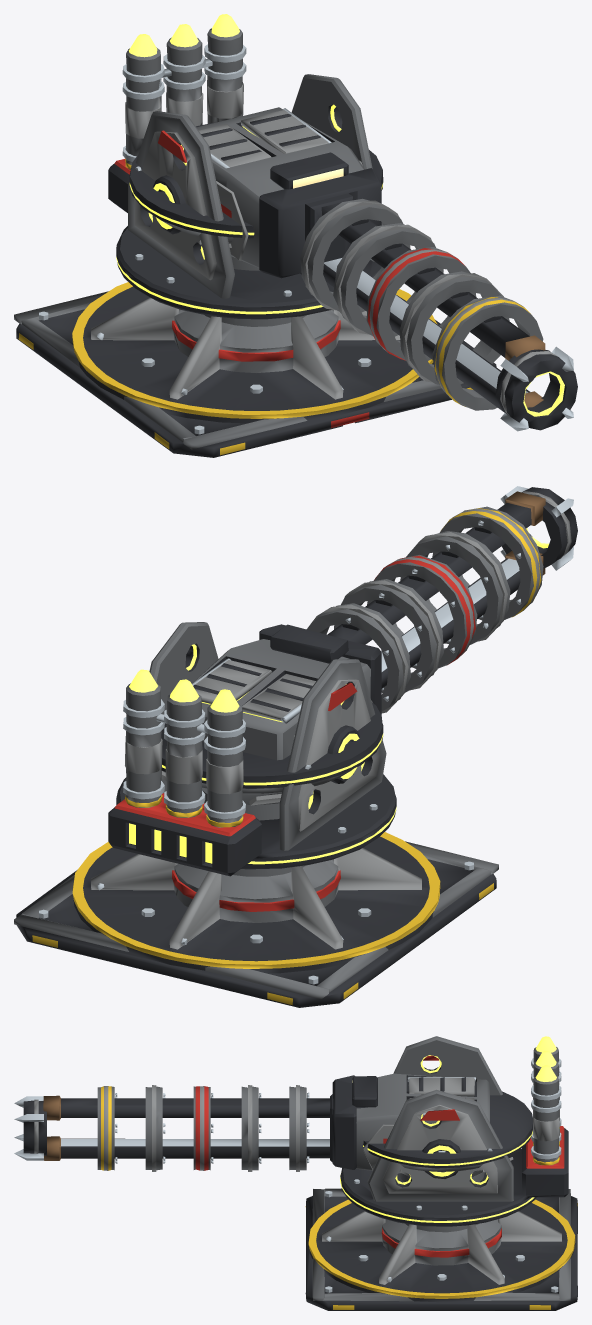
The model's file is R4W_Railgun_LOD1.fbx.
The picture shows the model from 3 angles, top to bottom: view 1: azimuth 30°, elevation 25°; view 2: azimuth 150°, elevation 25°; view 3: azimuth 270°, elevation 25°; orthographic projection. The views are drawn at different scales.
Parts seen in each view (by area): view 1: R4W_Railgun_Base_LOD1, R4W_Railgun_Yaw_LOD1, R4W_Railgun_Rails_LOD1, R4W_Railgun_Pitch_LOD1, R4W_Railgun_Emitter_LOD1, R4W_Railgun_VentFlap_R_LOD1, R4W_Railgun_VentFlap_L_LOD1; view 2: R4W_Railgun_Base_LOD1, R4W_Railgun_Yaw_LOD1, R4W_Railgun_Rails_LOD1, R4W_Railgun_Pitch_LOD1, R4W_Railgun_Emitter_LOD1, R4W_Railgun_VentFlap_L_LOD1, R4W_Railgun_VentFlap_R_LOD1; view 3: R4W_Railgun_Base_LOD1, R4W_Railgun_Yaw_LOD1, R4W_Railgun_Rails_LOD1, R4W_Railgun_Pitch_LOD1, R4W_Railgun_Emitter_LOD1, R4W_Railgun_VentFlap_L_LOD1.
Part boxes in pixels (box(x1,y1,x2,y2)): R4W_Railgun_Base_LOD1: box(14, 122, 496, 457); R4W_Railgun_Yaw_LOD1: box(108, 14, 382, 319); R4W_Railgun_Rails_LOD1: box(300, 193, 545, 412); R4W_Railgun_Pitch_LOD1: box(165, 107, 381, 278); R4W_Railgun_Emitter_LOD1: box(495, 346, 577, 431); R4W_Railgun_VentFlap_R_LOD1: box(241, 108, 331, 153); R4W_Railgun_VentFlap_L_LOD1: box(199, 124, 271, 168); R4W_Railgun_Base_LOD1: box(14, 702, 498, 1007); R4W_Railgun_Yaw_LOD1: box(108, 622, 396, 876); R4W_Railgun_Rails_LOD1: box(306, 491, 545, 713); R4W_Railgun_Pitch_LOD1: box(166, 624, 381, 795); R4W_Railgun_Emitter_LOD1: box(500, 486, 577, 570); R4W_Railgun_VentFlap_L_LOD1: box(242, 674, 315, 722); R4W_Railgun_VentFlap_R_LOD1: box(192, 658, 272, 703); R4W_Railgun_Base_LOD1: box(305, 1091, 577, 1310); R4W_Railgun_Yaw_LOD1: box(340, 1036, 568, 1226); R4W_Railgun_Rails_LOD1: box(43, 1085, 367, 1171); R4W_Railgun_Pitch_LOD1: box(332, 1073, 489, 1173); R4W_Railgun_Emitter_LOD1: box(14, 1096, 46, 1160); R4W_Railgun_VentFlap_L_LOD1: box(407, 1076, 475, 1096).
Size of the model in its own units: 0.5108 by 0.4171 by 1.06.
